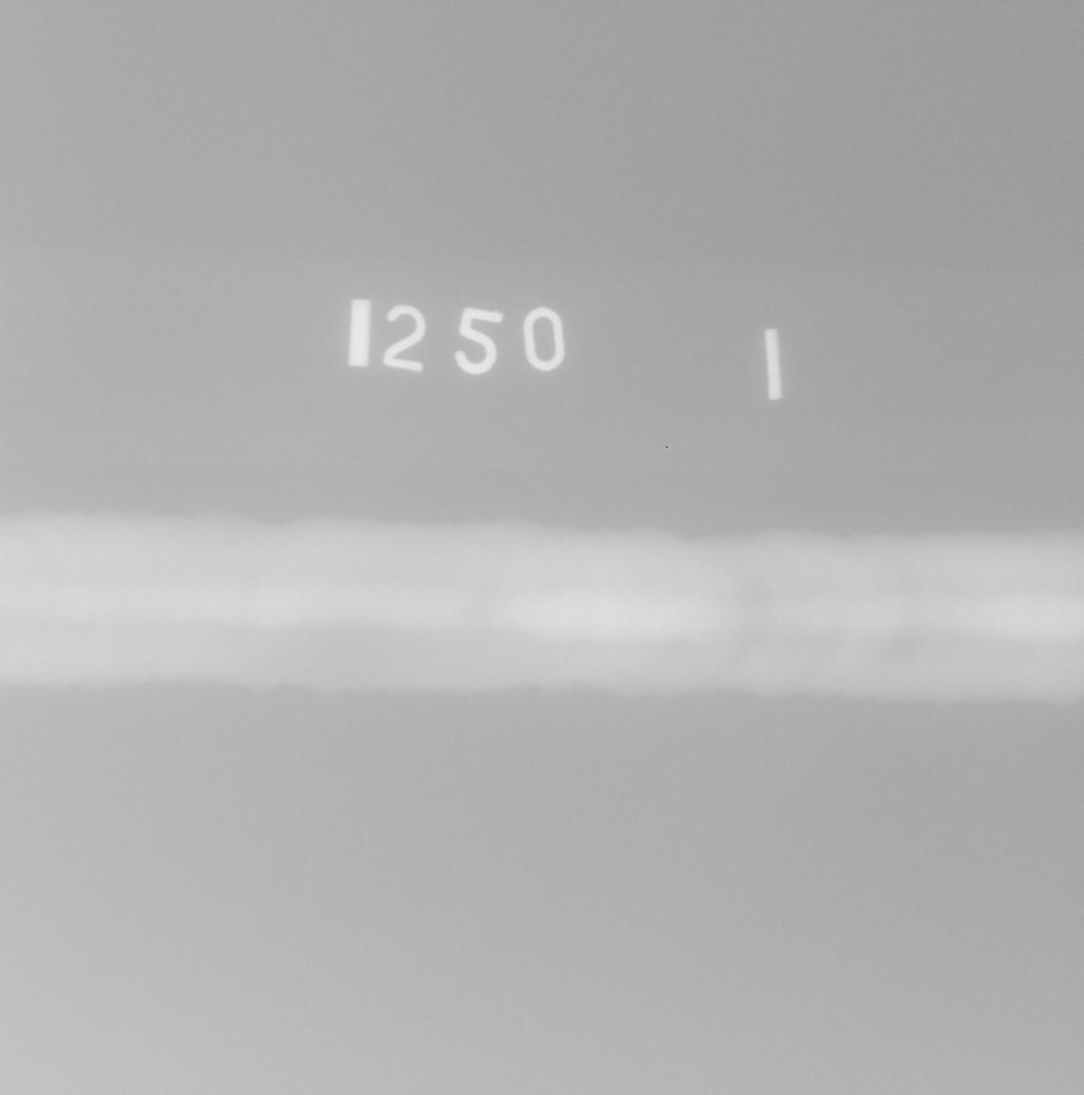Pore/Porosity: (359, 617, 365, 622)
